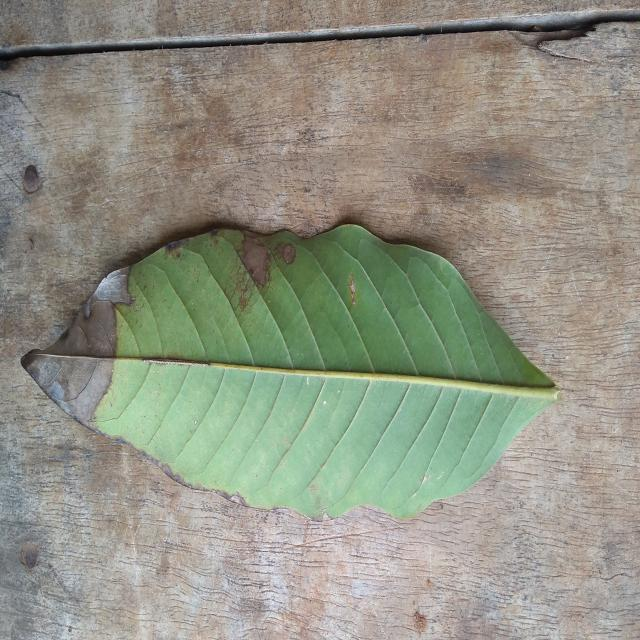leaf spot: (22, 224, 558, 518)
